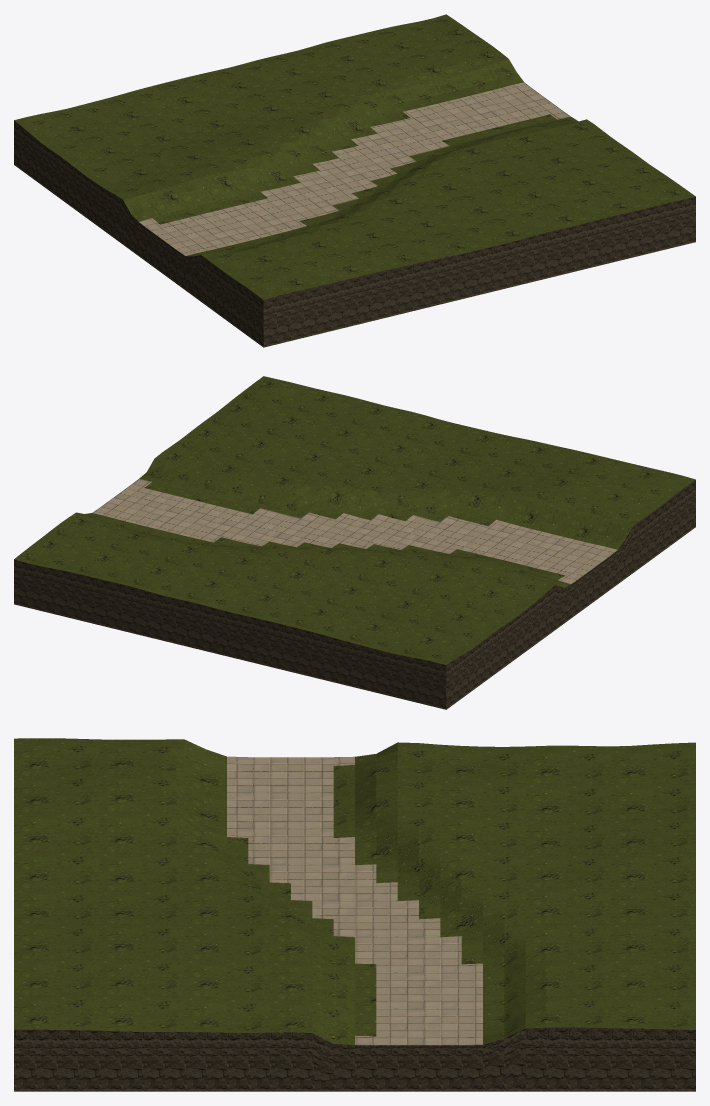
The model's file is road_plain_01.glb.
3 views of the same model, one above another, from view 1: azimuth 30°, elevation 25°; view 2: azimuth 150°, elevation 25°; view 3: azimuth 270°, elevation 25° (orthographic). The views are drawn at different scales.
Parts seen in each view (by area): view 1: road_plain_01; view 2: road_plain_01; view 3: road_plain_01.
Part boxes in pixels (box(x1,y1,x2,y2)): road_plain_01: box(14, 14, 695, 347); road_plain_01: box(14, 376, 695, 709); road_plain_01: box(14, 738, 695, 1091).
Bounding box in the file's own units: 16 × 1.79 × 16.
Materials: 3 (3 with a texture image).
